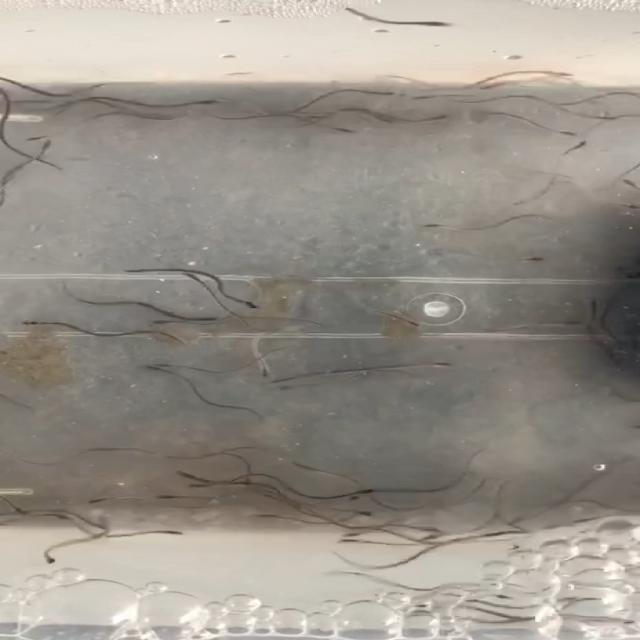active_glass_eel: (413, 14, 462, 33), (21, 137, 66, 156), (162, 466, 211, 482), (473, 77, 516, 94), (174, 96, 229, 109), (420, 220, 466, 235), (539, 124, 587, 138), (75, 79, 118, 94), (324, 568, 368, 582), (271, 379, 322, 391), (370, 87, 417, 100), (556, 136, 594, 152), (613, 171, 640, 193), (232, 295, 265, 313), (44, 510, 86, 524), (414, 113, 462, 125), (235, 470, 266, 488), (142, 527, 184, 540), (478, 591, 516, 605), (181, 312, 229, 323), (582, 295, 608, 315), (343, 526, 383, 539), (319, 121, 356, 135), (26, 128, 58, 144), (341, 507, 380, 520), (250, 507, 292, 519), (74, 497, 118, 508), (546, 67, 586, 79), (149, 359, 189, 371), (4, 502, 36, 517), (177, 270, 207, 286), (290, 458, 322, 473), (410, 522, 446, 535), (399, 314, 428, 330), (142, 362, 175, 376), (256, 359, 279, 379), (560, 320, 592, 334), (154, 493, 198, 503), (188, 480, 226, 491), (608, 199, 640, 212), (36, 550, 60, 567), (15, 317, 52, 328), (520, 251, 548, 265), (335, 537, 373, 547), (346, 487, 376, 498), (597, 619, 627, 630), (150, 317, 182, 327), (424, 361, 454, 369)
